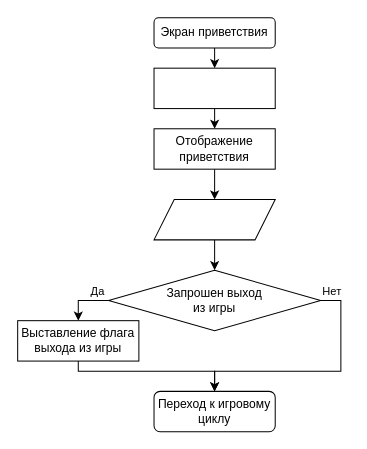
The diagram is 367 pixels wide and 449 high, and some of its shapes have lost their labels. Each missing label, with the centre of its shape:
"Ввод пользователя" belongs at point 214,219.
"Формирование приветствия" belongs at point 214,88.
